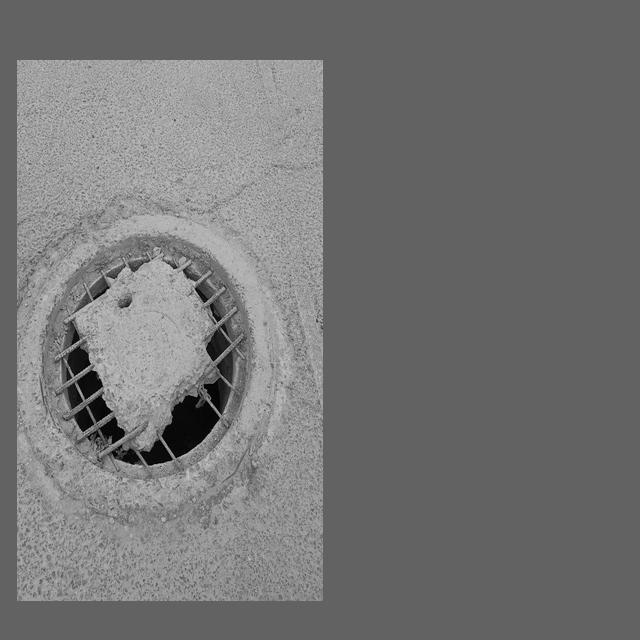broke: (24, 194, 279, 510)
